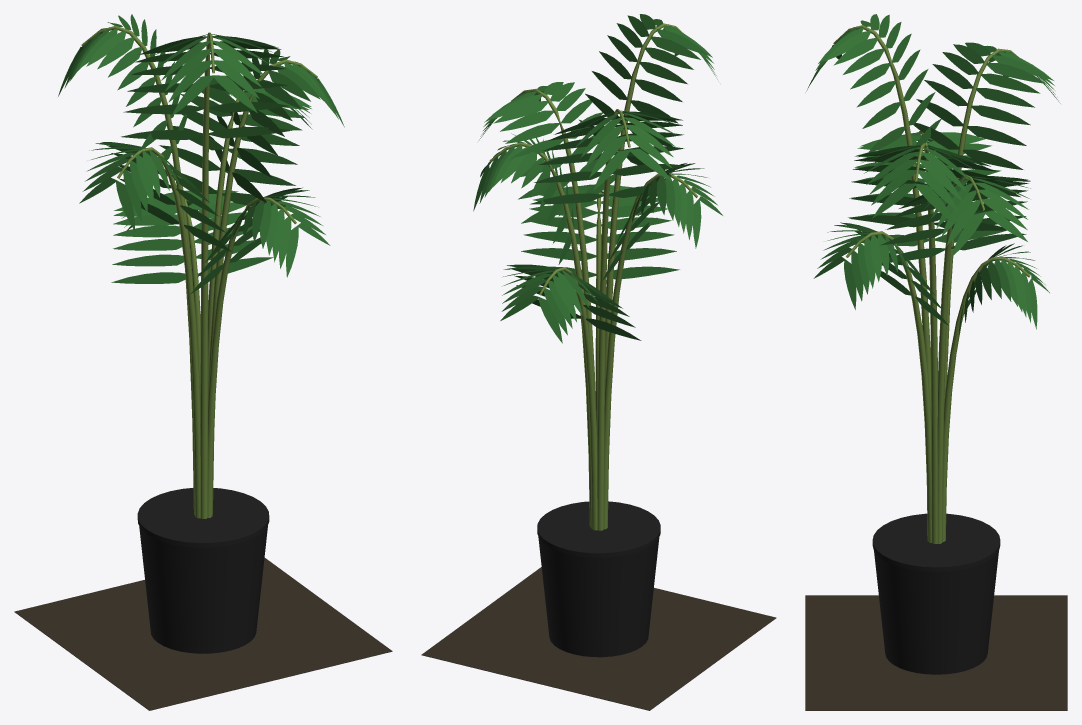
3 renders of one model, left to right at view 1: azimuth 30°, elevation 25°; view 2: azimuth 150°, elevation 25°; view 3: azimuth 270°, elevation 25°, orthographic. The views are drawn at different scales.
Parts seen in each view (by area): view 1: Leaflets, Footprint, Pot, Stems; view 2: Leaflets, Footprint, Pot, Stems; view 3: Leaflets, Footprint, Pot, Stems.
Part boxes in pixels (x1=…): Leaflets: x1=58, y1=14, x2=344, y2=294; Footprint: x1=14, y1=558, x2=392, y2=710; Pot: x1=137, y1=488, x2=269, y2=653; Stems: x1=81, y1=25, x2=317, y2=518; Leaflets: x1=473, y1=14, x2=722, y2=343; Footprint: x1=421, y1=567, x2=776, y2=710; Pot: x1=537, y1=501, x2=660, y2=657; Stems: x1=489, y1=23, x2=697, y2=530; Leaflets: x1=806, y1=14, x2=1060, y2=350; Footprint: x1=805, y1=595, x2=1067, y2=710; Pot: x1=872, y1=513, x2=1000, y2=674; Stems: x1=833, y1=25, x2=1030, y2=543.
Size of the model in its own units: 0.6644 by 1.65 by 0.6395.
